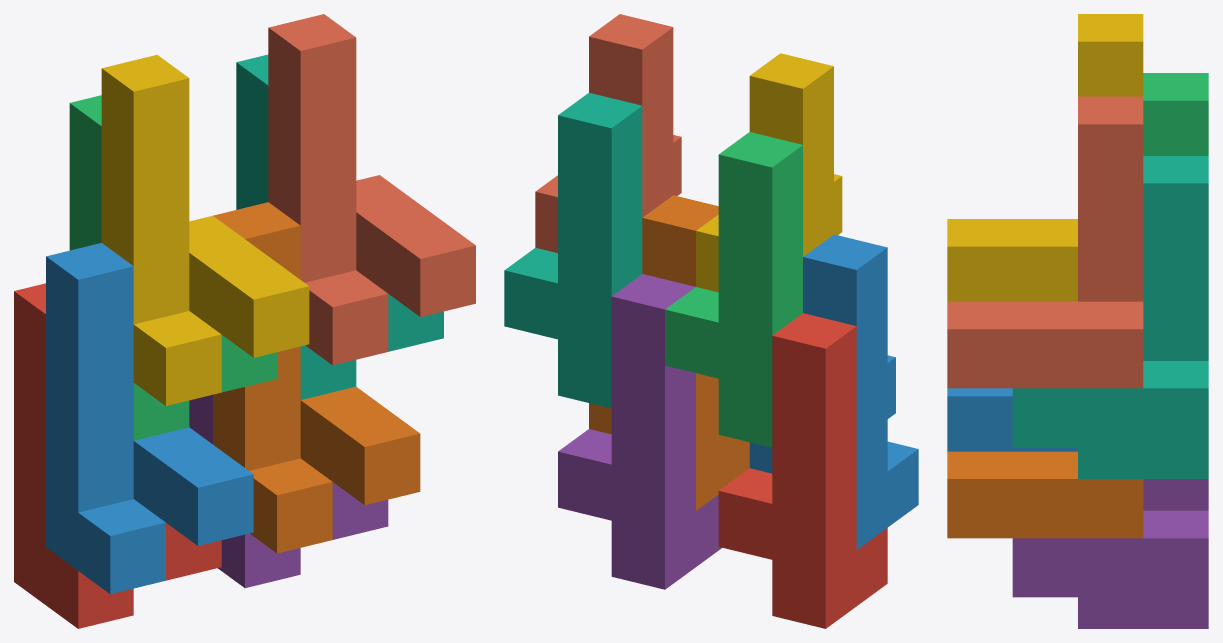
File: tiling.obj
3 renders of one model, left to right at view 1: azimuth 30°, elevation 25°; view 2: azimuth 150°, elevation 25°; view 3: azimuth 270°, elevation 25°, orthographic. The views are drawn at different scales.
Parts seen in each view (by area): view 1: copy_1_domain_2, copy_1_domain_4, copy_1_domain_8, copy_1_domain_6, copy_1_domain_1, copy_1_domain_3, copy_1_domain_7, copy_1_domain_5; view 2: copy_1_domain_1, copy_1_domain_5, copy_1_domain_3, copy_1_domain_7, copy_1_domain_2, copy_1_domain_8, copy_1_domain_4, copy_1_domain_6; view 3: copy_1_domain_7, copy_1_domain_8, copy_1_domain_5, copy_1_domain_4, copy_1_domain_6, copy_1_domain_3, copy_1_domain_2.
Part boxes in pixels (left/top/right/bottom): copy_1_domain_2: left=46, top=243, right=253, bottom=594; copy_1_domain_4: left=101, top=55, right=309, bottom=405; copy_1_domain_8: left=268, top=14, right=475, bottom=365; copy_1_domain_6: left=213, top=202, right=420, bottom=553; copy_1_domain_1: left=14, top=283, right=221, bottom=628; copy_1_domain_3: left=69, top=95, right=276, bottom=440; copy_1_domain_7: left=236, top=54, right=443, bottom=399; copy_1_domain_5: left=189, top=394, right=388, bottom=588; copy_1_domain_1: left=718, top=313, right=887, bottom=628; copy_1_domain_5: left=558, top=274, right=721, bottom=589; copy_1_domain_3: left=665, top=132, right=802, bottom=447; copy_1_domain_7: left=504, top=92, right=642, bottom=408; copy_1_domain_2: left=749, top=234, right=918, bottom=549; copy_1_domain_8: left=535, top=14, right=681, bottom=252; copy_1_domain_4: left=696, top=53, right=842, bottom=292; copy_1_domain_6: left=589, top=195, right=749, bottom=510; copy_1_domain_7: left=1012, top=156, right=1208, bottom=478; copy_1_domain_8: left=947, top=96, right=1143, bottom=388; copy_1_domain_5: left=1012, top=479, right=1208, bottom=628; copy_1_domain_4: left=947, top=14, right=1143, bottom=301; copy_1_domain_6: left=947, top=451, right=1143, bottom=538; copy_1_domain_3: left=1143, top=73, right=1208, bottom=155; copy_1_domain_2: left=947, top=388, right=1077, bottom=451.
Bounding box in the file's own units: 6 × 9 × 4.
